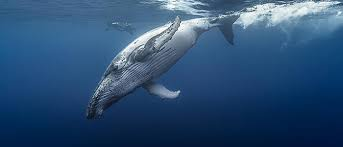humpback: (87, 15, 241, 119)
